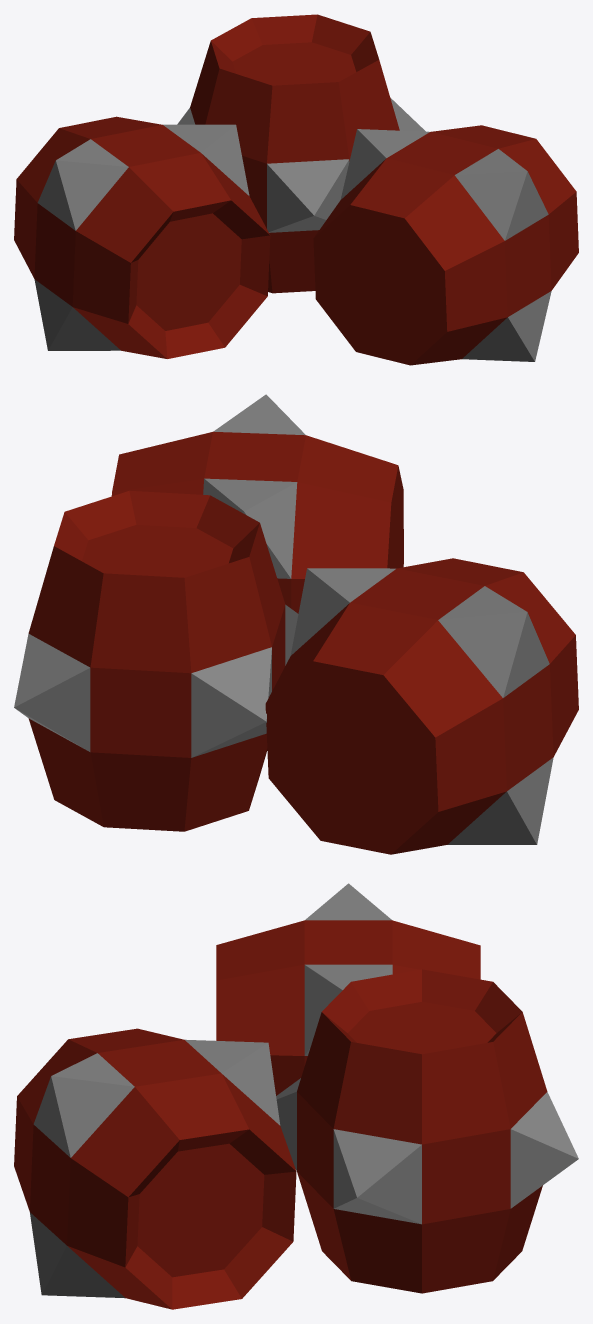
File: dinamite.fbx
3 renders of one model, top to bottom at view 1: azimuth 30°, elevation 25°; view 2: azimuth 150°, elevation 25°; view 3: azimuth 270°, elevation 25°, orthographic. The views are drawn at different scales.
Parts seen in each view (by area): view 1: tnt3, tnt2, tnt1; view 2: tnt2, tnt1, tnt3; view 3: tnt1, tnt3, tnt2.
Part boxes in pixels (x1,y1,x2,y2): tnt3: [313, 125, 578, 365]; tnt2: [14, 116, 270, 358]; tnt1: [177, 14, 425, 293]; tnt2: [265, 558, 578, 854]; tnt1: [14, 490, 298, 831]; tnt3: [111, 394, 403, 613]; tnt1: [276, 969, 578, 1293]; tnt3: [14, 1028, 296, 1309]; tnt2: [216, 883, 480, 1095].
Size of the model in its own units: 62.32 by 60.95 by 29.86.
